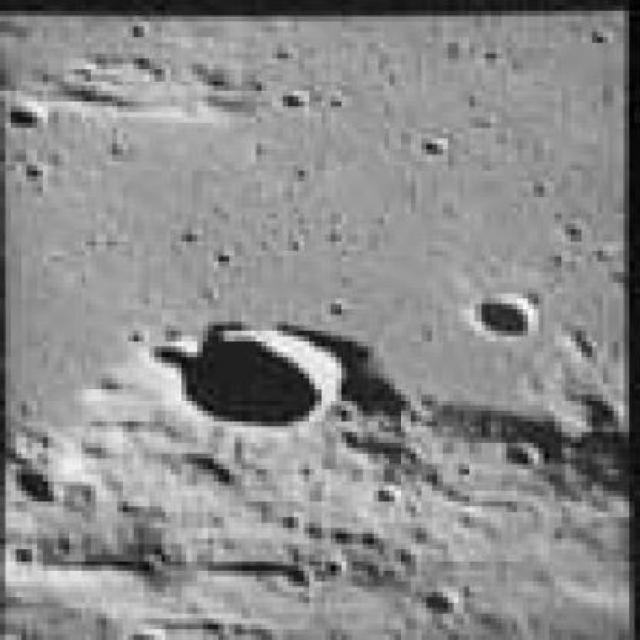crater: (152, 324, 343, 433), (469, 294, 534, 340)
